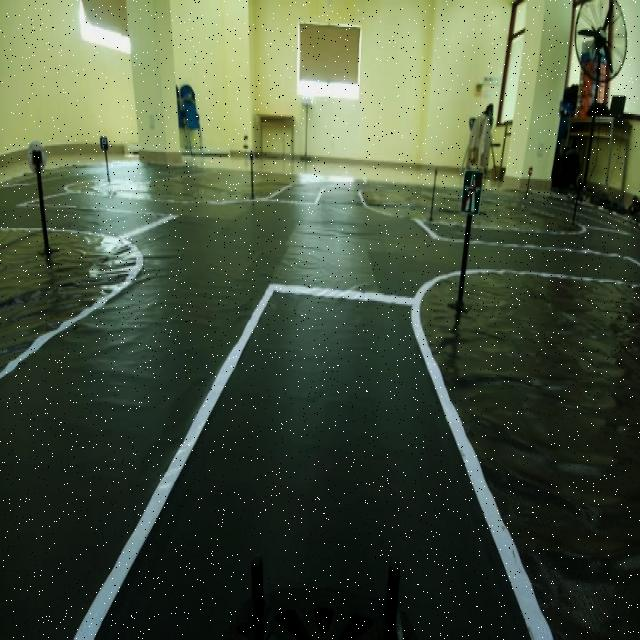highway_exit: (462, 168, 484, 219)
